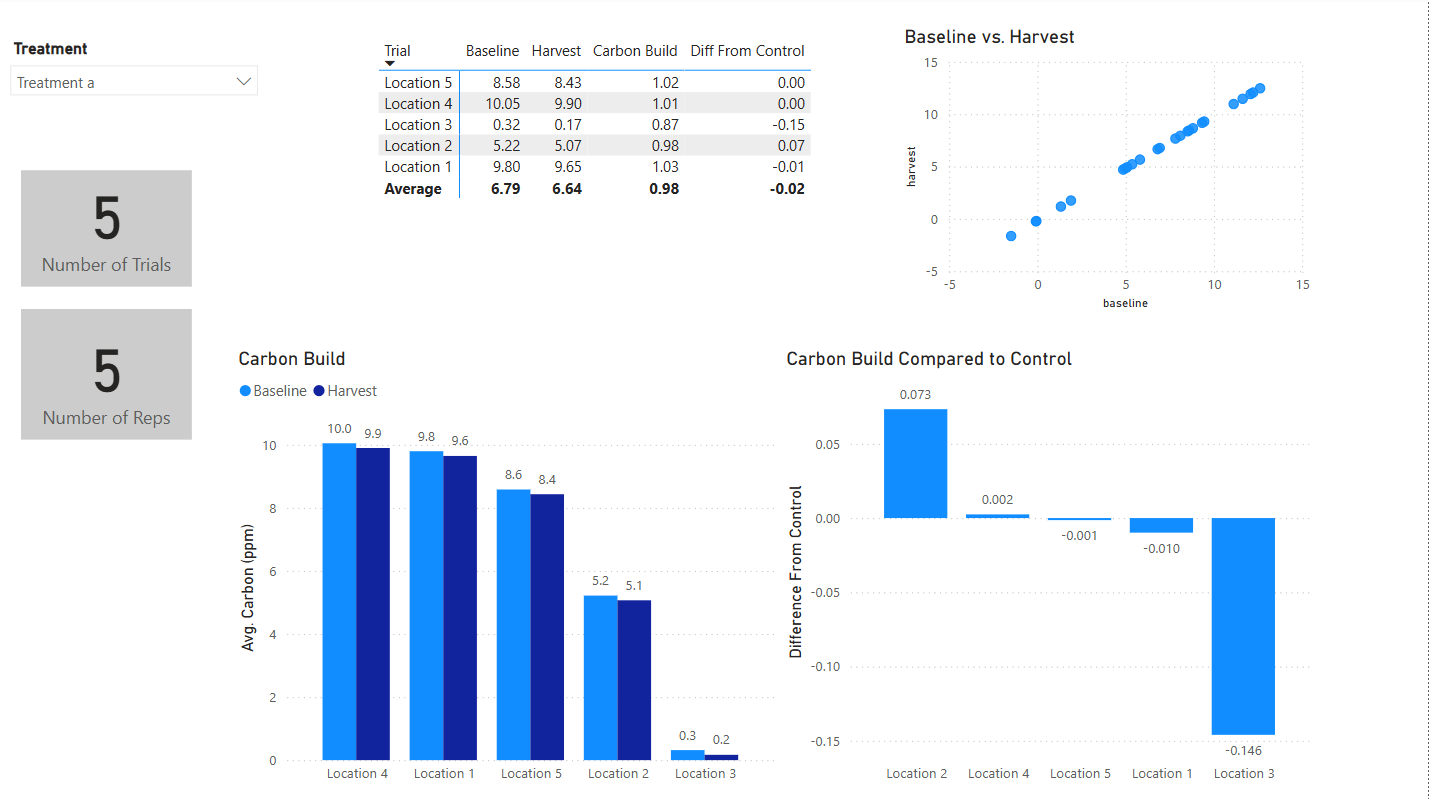

What the dashboard file says about the page in this screenshot:
{"tool":"powerbi","page":{"name":"Treatment","canvas":[1280,720],"ordinal":0},"visuals":[{"type":"pivotTable","fields":{"Rows":["sample_data.Trial"],"Values":["Avg(sample_data.baseline)","Avg(sample_data.harvest)","Avg(sample_data_L1.Mean_CBuild.ratio)","Avg(sample_data_L1.CBuild.diff)"]},"box":[334.9,33.1,430.7,184.5],"z":0},{"type":"clusteredColumnChart","fields":{"Y":["Avg(sample_data.baseline)","Avg(sample_data.harvest)"],"Category":["sample_data.Trial"]},"box":[209.6,313.4,490.7,400.3],"z":1000},{"type":"card","fields":{"Values":["chemical.Num_Trials"]},"box":[19.7,142.4,153.1,117.3],"z":2000},{"type":"columnChart","title":"Carbon Build Compared to Control","fields":{"Y":["Avg(sample_data_L1.CBuild.diff)"],"Category":["sample_data_L1.Trial"]},"box":[700.3,313.4,479.1,400.3],"z":3000},{"type":"slicer","fields":{"Values":["sample_data.Treatment"]},"box":[0,33.1,241.8,121.8],"z":4000},{"type":"card","fields":{"Values":["sample_data.Number of Reps"]},"box":[19.7,279.4,153.1,117.3],"z":5000},{"type":"scatterChart","fields":{"X":["sample_data.baseline"],"Y":["sample_data.harvest"]},"box":[806,25.1,373.4,259.7],"z":6000}]}

Visuals, with their boxes in screenshot pixels (x1, y1, x2, y2), scaled from the page's 1280x720 canvas onto the 1429x799 screenshot:
pivotTable - sample_data.Trial x Avg(sample_data.baseline): bbox(374, 37, 855, 241)
clusteredColumnChart - Avg(sample_data.baseline) x Avg(sample_data.harvest): bbox(234, 348, 782, 792)
card - chemical.Num_Trials: bbox(22, 158, 193, 288)
"Carbon Build Compared to Control" columnChart: bbox(782, 348, 1317, 792)
slicer - sample_data.Treatment: bbox(0, 37, 270, 172)
card - sample_data.Number of Reps: bbox(22, 310, 193, 440)
scatterChart - sample_data.baseline x sample_data.harvest: bbox(900, 28, 1317, 316)
